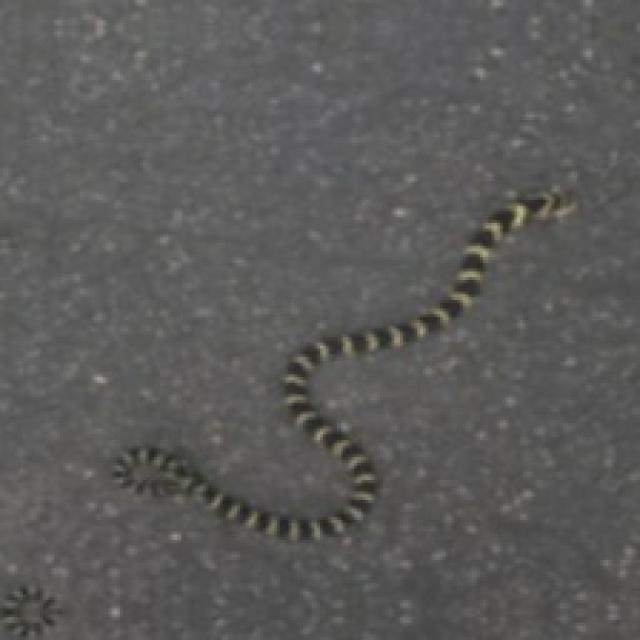king cobra: (114, 189, 574, 540)
